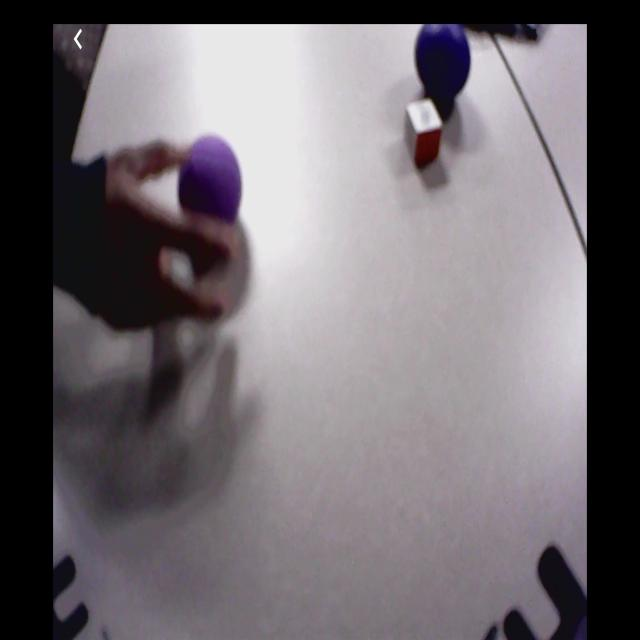ball: (180, 137, 242, 223), (415, 27, 472, 101)
